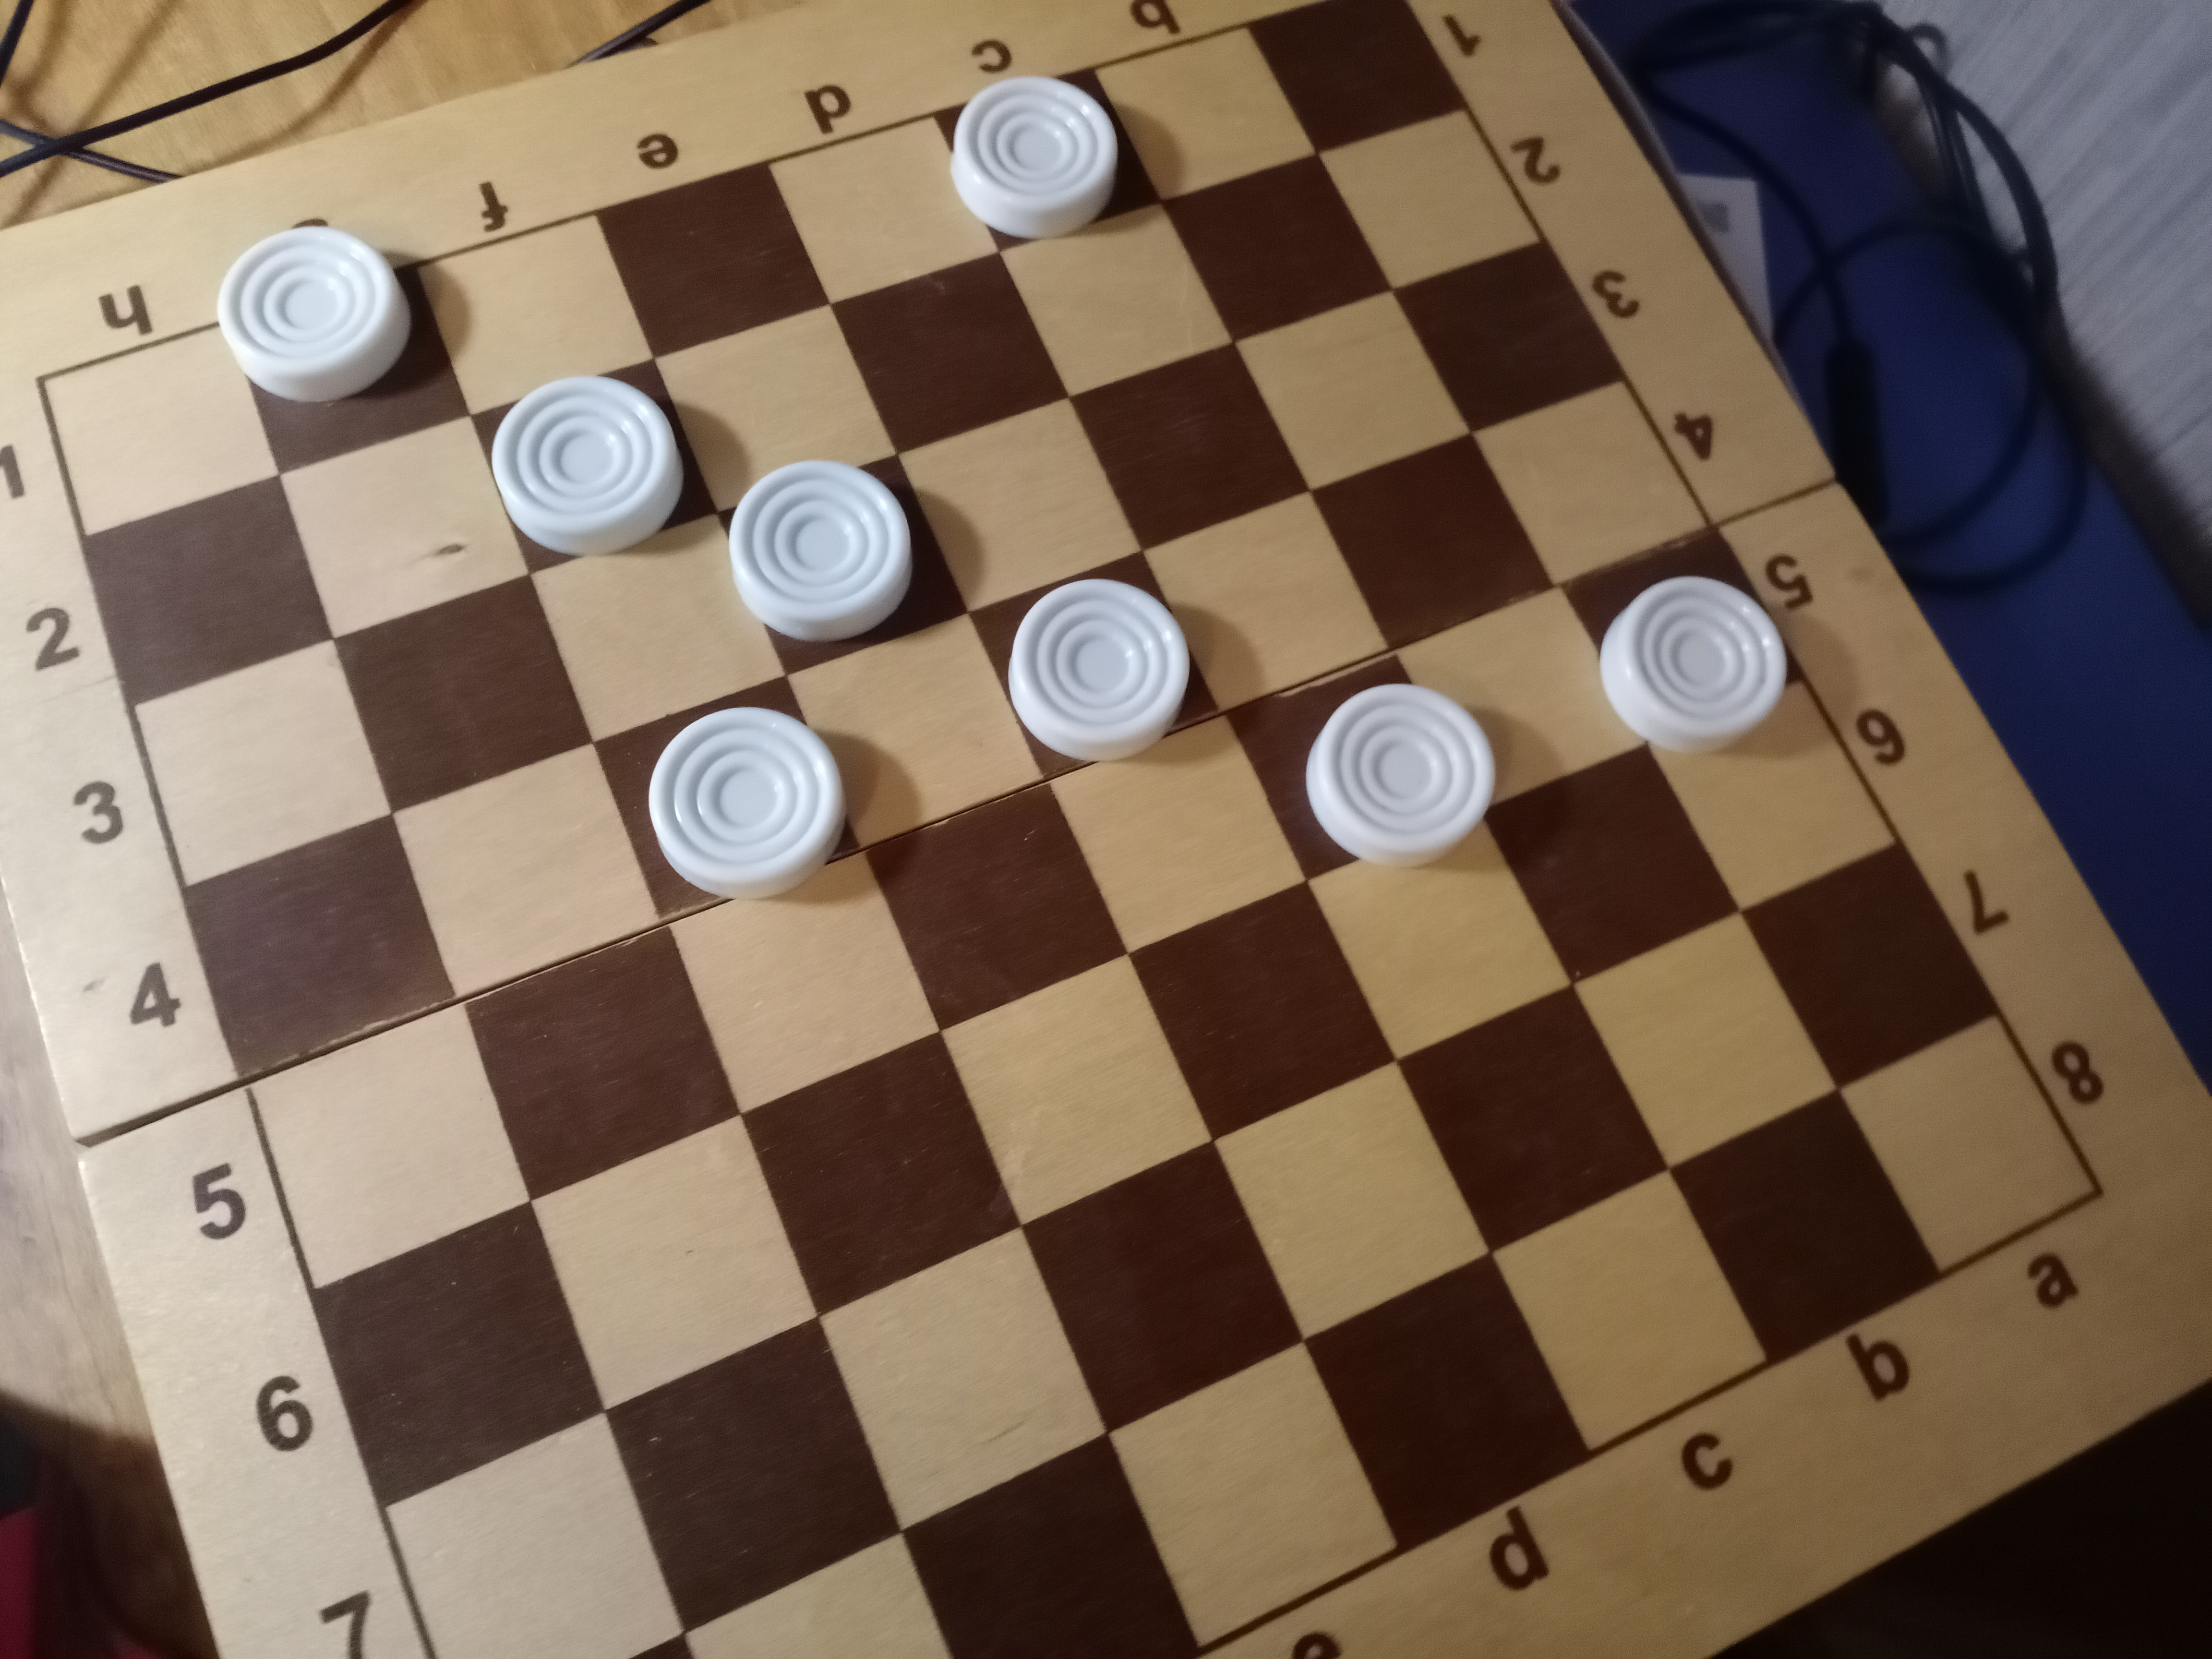White_Draught: (594, 676, 860, 920), (216, 225, 472, 474), (1223, 655, 1498, 884), (968, 549, 1221, 784), (719, 455, 968, 676), (1561, 530, 1803, 756), (472, 359, 719, 573), (935, 70, 1160, 251)
